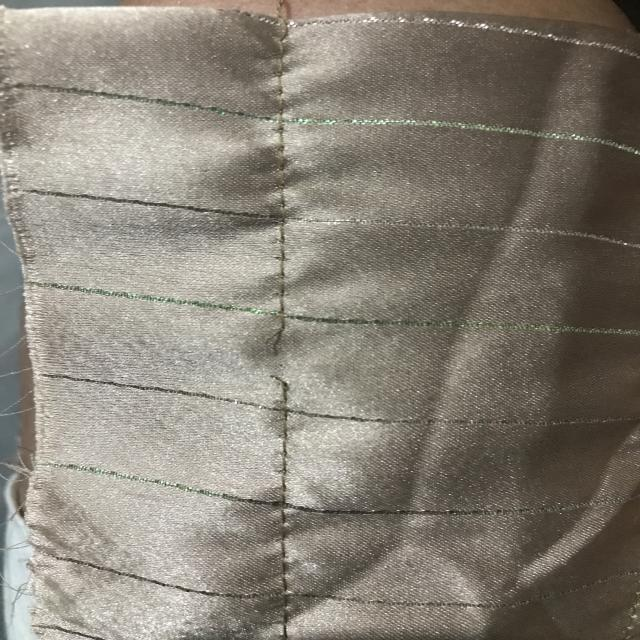broken: (235, 318, 325, 401)
good: (268, 424, 304, 516)
